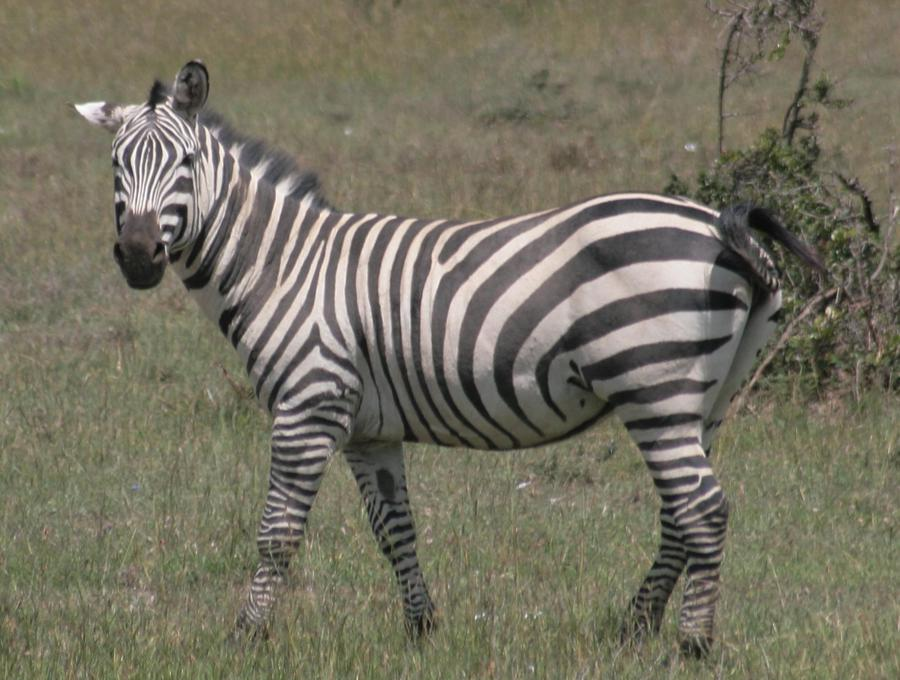zebra_plains: (211, 179, 759, 472)
